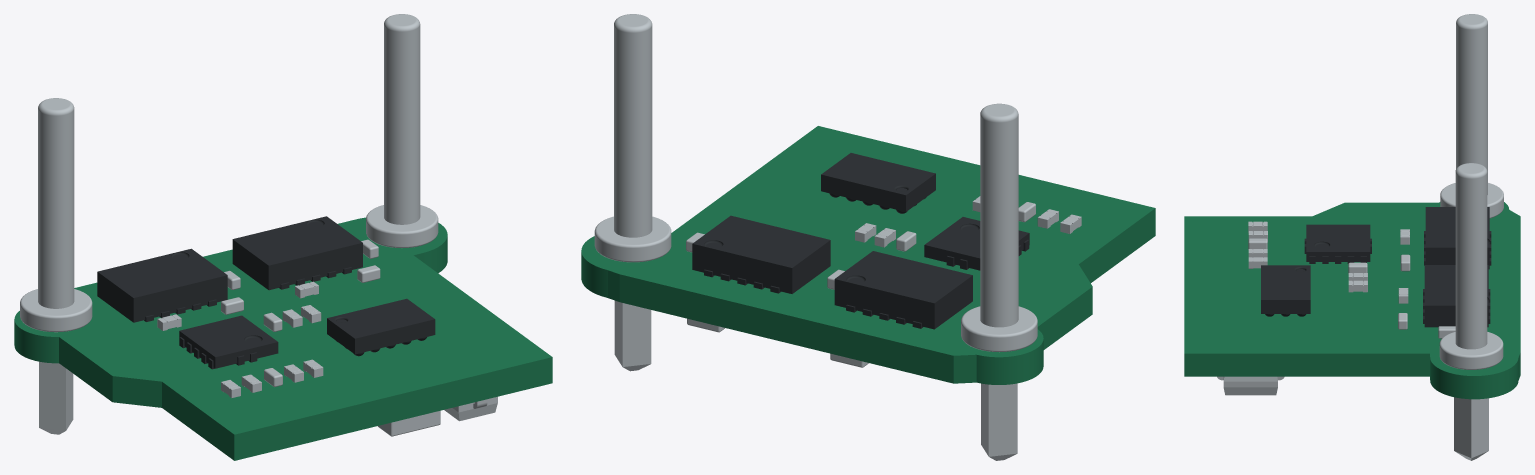
Rendered from after.glb.
3 renders of one model, left to right at view 1: azimuth 30°, elevation 25°; view 2: azimuth 150°, elevation 25°; view 3: azimuth 270°, elevation 25°, orthographic. The views are drawn at different scales.
Visible parts, largest first — view 1: after:/Open_CASCADE_STEP_translator_6_9_1/COMPOUND, after:/Open_CASCADE_STEP_translator_6_9_1/Pin_D1_0mm_L10_0mm (×2), after:/Open_CASCADE_STEP_translator_6_9_1/SON_11_P50_300X200 (×2), after:/Open_CASCADE_STEP_translator_6_9_1/BGA_15_NP50_3X5_15 (×2), after:/Open_CASCADE_STEP_translator_6_9_1/QFN_14_P40_200X200, after:/Open_CASCADE_STEP_translator_6_9_1/SOD_323_250X125X11; view 2: after:/Open_CASCADE_STEP_translator_6_9_1/COMPOUND, after:/Open_CASCADE_STEP_translator_6_9_1/Pin_D1_0mm_L10_0mm (×2), after:/Open_CASCADE_STEP_translator_6_9_1/SON_11_P50_300X200 (×2), after:/Open_CASCADE_STEP_translator_6_9_1/BGA_15_NP50_3X5_15 (×2), after:/Open_CASCADE_STEP_translator_6_9_1/QFN_14_P40_200X200; view 3: after:/Open_CASCADE_STEP_translator_6_9_1/COMPOUND, after:/Open_CASCADE_STEP_translator_6_9_1/Pin_D1_0mm_L10_0mm (×2), after:/Open_CASCADE_STEP_translator_6_9_1/SON_11_P50_300X200 (×2), after:/Open_CASCADE_STEP_translator_6_9_1/BGA_15_NP50_3X5_15 (×2), after:/Open_CASCADE_STEP_translator_6_9_1/QFN_14_P40_200X200, after:/Open_CASCADE_STEP_translator_6_9_1/SOD_323_250X125X11.
Part boxes in pixels (box(x1,y1,x2,y2)): after:/Open_CASCADE_STEP_translator_6_9_1/COMPOUND: box(14, 217, 552, 460); after:/Open_CASCADE_STEP_translator_6_9_1/Pin_D1_0mm_L10_0mm (×2): box(20, 14, 438, 434); after:/Open_CASCADE_STEP_translator_6_9_1/SON_11_P50_300X200 (×2): box(97, 216, 362, 322); after:/Open_CASCADE_STEP_translator_6_9_1/BGA_15_NP50_3X5_15 (×2): box(327, 298, 435, 354); after:/Open_CASCADE_STEP_translator_6_9_1/QFN_14_P40_200X200: box(179, 315, 278, 368); after:/Open_CASCADE_STEP_translator_6_9_1/SOD_323_250X125X11: box(444, 396, 497, 421); after:/Open_CASCADE_STEP_translator_6_9_1/COMPOUND: box(581, 126, 1155, 384); after:/Open_CASCADE_STEP_translator_6_9_1/Pin_D1_0mm_L10_0mm (×2): box(594, 14, 1037, 460); after:/Open_CASCADE_STEP_translator_6_9_1/SON_11_P50_300X200 (×2): box(692, 215, 972, 329); after:/Open_CASCADE_STEP_translator_6_9_1/BGA_15_NP50_3X5_15 (×2): box(821, 153, 935, 211); after:/Open_CASCADE_STEP_translator_6_9_1/QFN_14_P40_200X200: box(924, 217, 1029, 270); after:/Open_CASCADE_STEP_translator_6_9_1/COMPOUND: box(1184, 202, 1520, 399); after:/Open_CASCADE_STEP_translator_6_9_1/Pin_D1_0mm_L10_0mm (×2): box(1439, 14, 1503, 460); after:/Open_CASCADE_STEP_translator_6_9_1/SON_11_P50_300X200 (×2): box(1424, 207, 1489, 327); after:/Open_CASCADE_STEP_translator_6_9_1/BGA_15_NP50_3X5_15 (×2): box(1261, 265, 1310, 313); after:/Open_CASCADE_STEP_translator_6_9_1/QFN_14_P40_200X200: box(1306, 224, 1370, 261); after:/Open_CASCADE_STEP_translator_6_9_1/SOD_323_250X125X11: box(1223, 376, 1277, 395).
Bounding box in the file's own units: 0.0134 × 0.01 × 0.0105.
